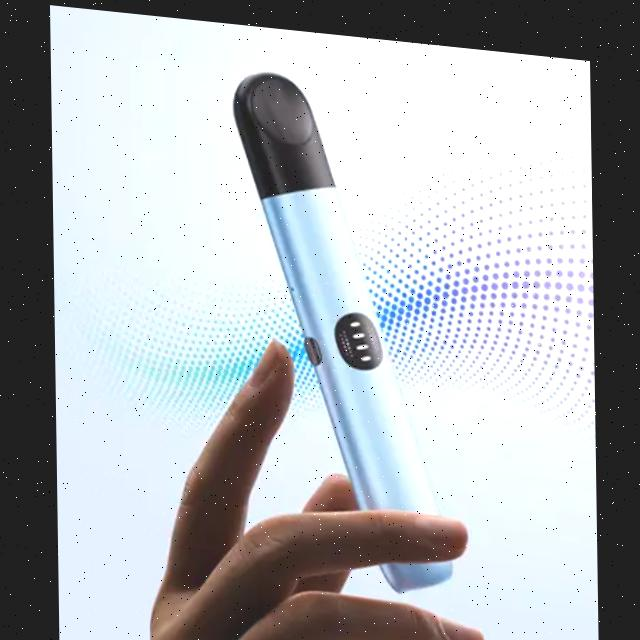vape: (230, 62, 453, 589)
